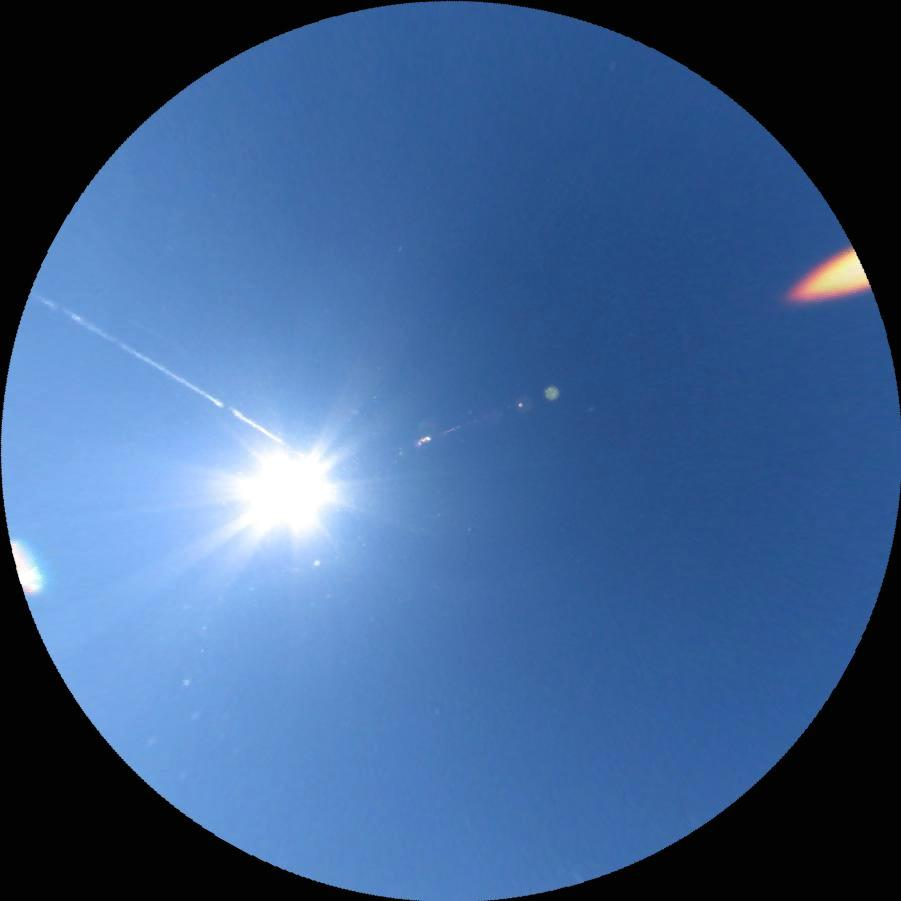parasite: (28, 286, 299, 451)
sun: (231, 431, 342, 542)
